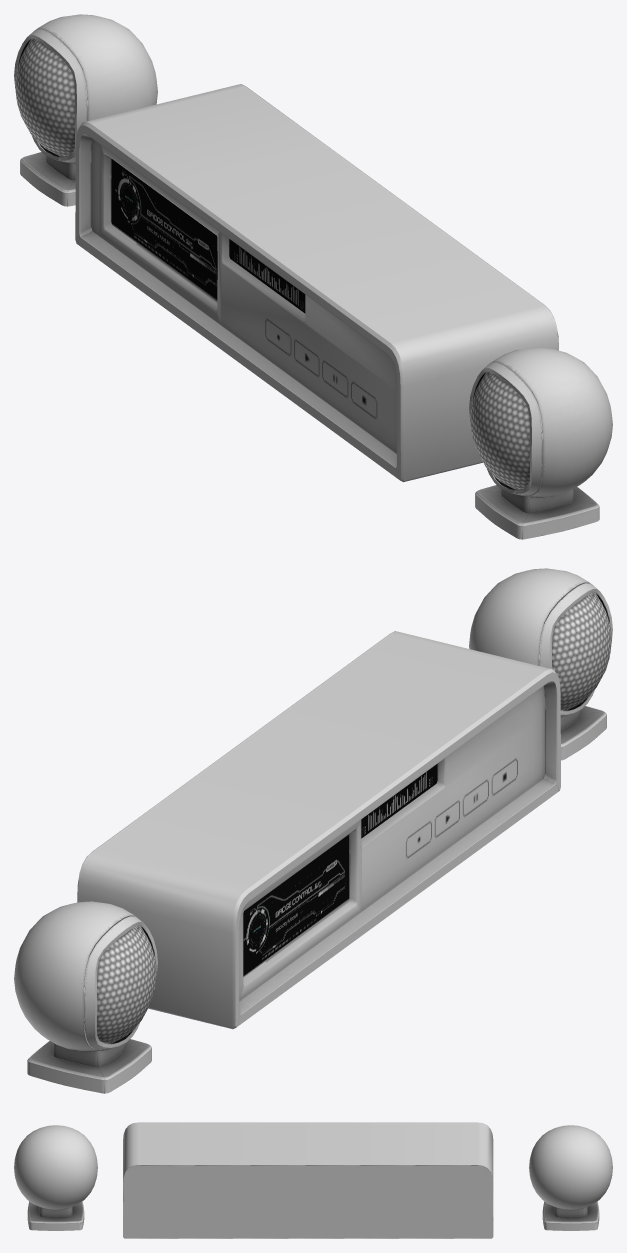
File: SmallObject1.fbx
3 renders of one model, top to bottom at view 1: azimuth 30°, elevation 25°; view 2: azimuth 150°, elevation 25°; view 3: azimuth 270°, elevation 25°, orthographic. The views are drawn at different scales.
Visible parts, largest first — view 1: 音乐播放器; view 2: 音乐播放器; view 3: 音乐播放器.
Boxes of the visible parts, box(x1,y1,x2,y2) form: 音乐播放器: box(14, 14, 612, 539); 音乐播放器: box(14, 568, 612, 1093); 音乐播放器: box(14, 1122, 612, 1238).
Size of the model in its own units: 8.17 by 7.84 by 47.6.
